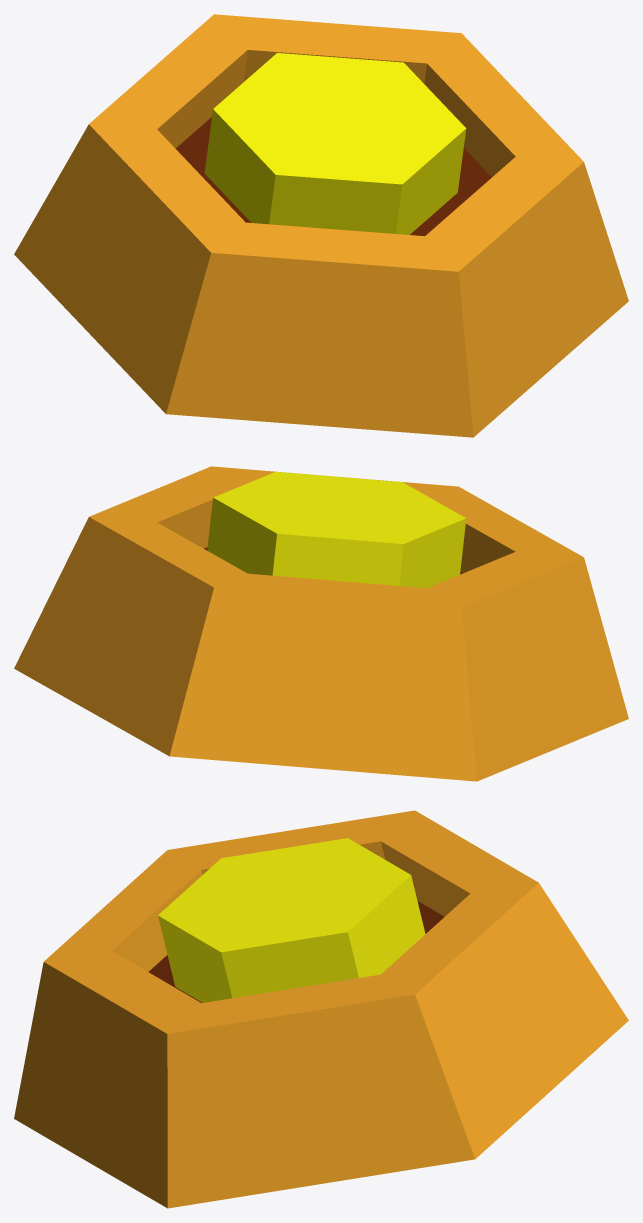
File: Poleyn 04.FBX
The picture shows the model from 3 angles, top to bottom: view 1: azimuth 30°, elevation 25°; view 2: azimuth 150°, elevation 25°; view 3: azimuth 270°, elevation 25°; orthographic projection.
Parts seen in each view (by area): view 1: Poleyn 04; view 2: Poleyn 04; view 3: Poleyn 04.
Boxes of the visible parts, box(x1,y1,x2,y2) form: Poleyn 04: box(14, 14, 628, 437); Poleyn 04: box(14, 466, 628, 781); Poleyn 04: box(14, 810, 628, 1208).
Bounding box in the file's own units: 11.85 × 5.9 × 13.48.
1 material, 1 textured.
